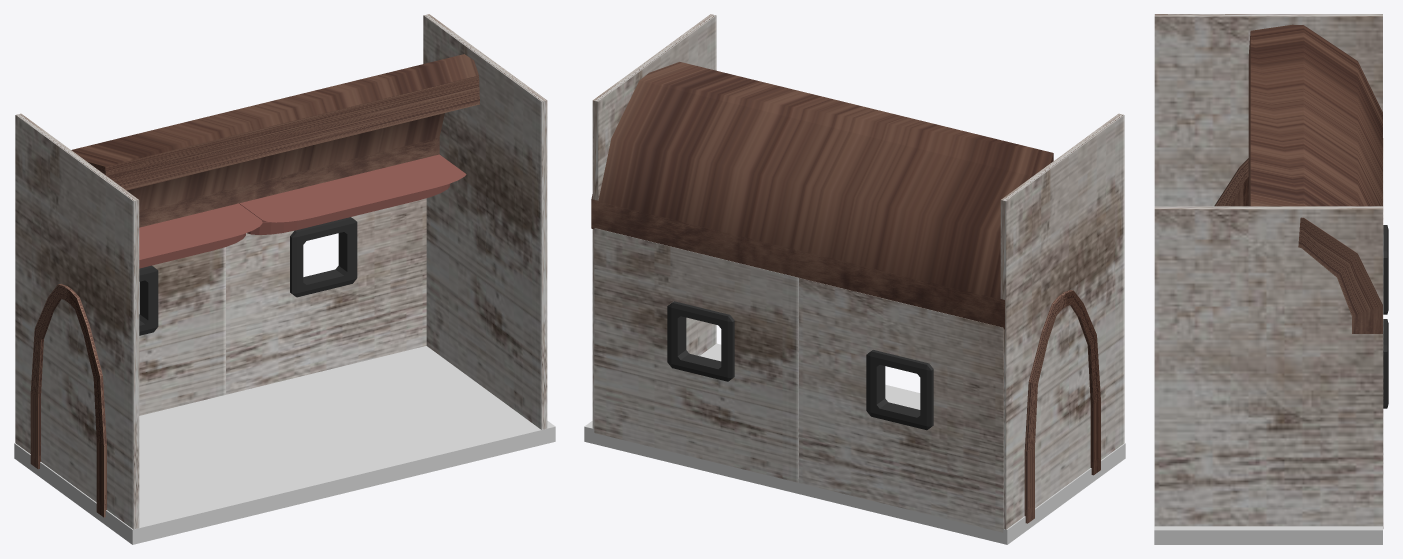
The model's file is Caravan.fbx.
3 views of the same model, side by side, from view 1: azimuth 30°, elevation 25°; view 2: azimuth 150°, elevation 25°; view 3: azimuth 270°, elevation 25° (orthographic). The views are drawn at different scales.
Parts seen in each view (by area): view 1: FloorTemp, LeftWall, RightWall, Cover, MiddleRightWall, MiddleLeftWall, TopRightFrame, TopLeftFrame, DoorFrame, OtherWindow, Window; view 2: Cover, MiddleRightWall, MiddleLeftWall, LeftWall, FloorTemp, RightWall, DoorFrame, OtherWindow, Window; view 3: RightWall, Cover, LeftWall, FloorTemp, DoorFrame, OtherWindow, Window, Door.
Boxes of the visible parts, box(x1,y1,x2,y2) form: FloorTemp: box(14, 346, 555, 544); LeftWall: box(15, 113, 139, 529); RightWall: box(423, 14, 547, 429); Cover: box(71, 54, 479, 227); MiddleRightWall: box(226, 198, 426, 394); MiddleLeftWall: box(139, 247, 225, 415); TopRightFrame: box(239, 154, 466, 234); TopLeftFrame: box(139, 203, 262, 268); DoorFrame: box(30, 283, 106, 517); OtherWindow: box(290, 217, 357, 297); Window: box(139, 265, 158, 335); Cover: box(591, 62, 1053, 329); MiddleRightWall: box(594, 228, 798, 482); MiddleLeftWall: box(799, 278, 1003, 532); LeftWall: box(1000, 113, 1124, 529); FloorTemp: box(584, 343, 1125, 544); RightWall: box(592, 14, 716, 428); DoorFrame: box(1024, 290, 1100, 523); OtherWindow: box(667, 301, 734, 381); Window: box(866, 350, 933, 430); RightWall: box(1154, 206, 1382, 526); Cover: box(1248, 24, 1382, 333); LeftWall: box(1154, 14, 1382, 206); FloorTemp: box(1154, 331, 1382, 544); DoorFrame: box(1214, 158, 1248, 206); OtherWindow: box(1383, 319, 1388, 408); Window: box(1383, 225, 1388, 314); Door: box(1231, 177, 1248, 206).
Bounding box in the file's own units: 3046 × 2350 × 1503.
